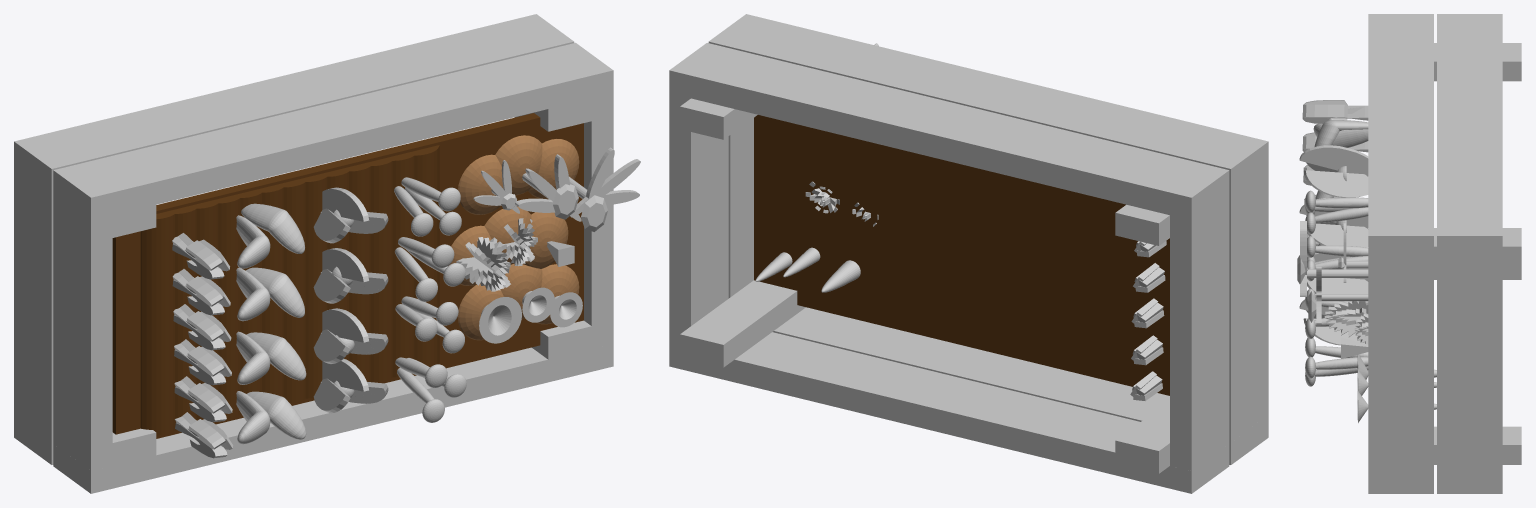
File: tinker.obj
3 views of the same model, side by side, from view 1: azimuth 30°, elevation 25°; view 2: azimuth 150°, elevation 25°; view 3: azimuth 270°, elevation 25° (orthographic). The views are drawn at different scales.
Parts seen in each view (by area): view 1: group_0_14900002, group_0_6306067, group_0_4634441, group_0_11107152, group_0_16768282, group_0_1206582, group_0_9771553, group_0_16089887, group_0_14093196, group_0_15277357, group_0_13165757; view 2: group_0_14900002, group_0_6306067, group_0_4634441, group_0_16089887; view 3: group_0_14900002, group_0_4634441, group_0_1206582, group_0_16768282, group_0_13165757, group_0_15277357, group_0_14093196.
Boxes of the visible parts, <box> form: group_0_14900002: <box>14,14,613,493</box>; group_0_6306067: <box>112,113,583,438</box>; group_0_4634441: <box>172,147,640,458</box>; group_0_11107152: <box>448,135,579,340</box>; group_0_16768282: <box>415,184,607,387</box>; group_0_1206582: <box>236,177,441,377</box>; group_0_9771553: <box>246,332,306,439</box>; group_0_16089887: <box>236,291,559,444</box>; group_0_14093196: <box>331,209,464,422</box>; group_0_15277357: <box>436,211,466,397</box>; group_0_13165757: <box>236,215,270,268</box>; group_0_14900002: <box>669,14,1268,493</box>; group_0_6306067: <box>754,115,1169,395</box>; group_0_4634441: <box>805,43,1166,400</box>; group_0_16089887: <box>755,247,860,292</box>; group_0_14900002: <box>1368,14,1521,493</box>; group_0_4634441: <box>1299,100,1368,422</box>; group_0_1206582: <box>1315,197,1368,357</box>; group_0_16768282: <box>1297,190,1345,357</box>; group_0_13165757: <box>1313,123,1368,147</box>; group_0_15277357: <box>1305,212,1315,378</box>; group_0_14093196: <box>1305,166,1346,386</box>.
Size of the model in its own units: 48 by 26 by 20.5.
